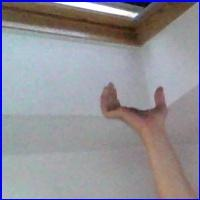space: (97, 80, 173, 134)
